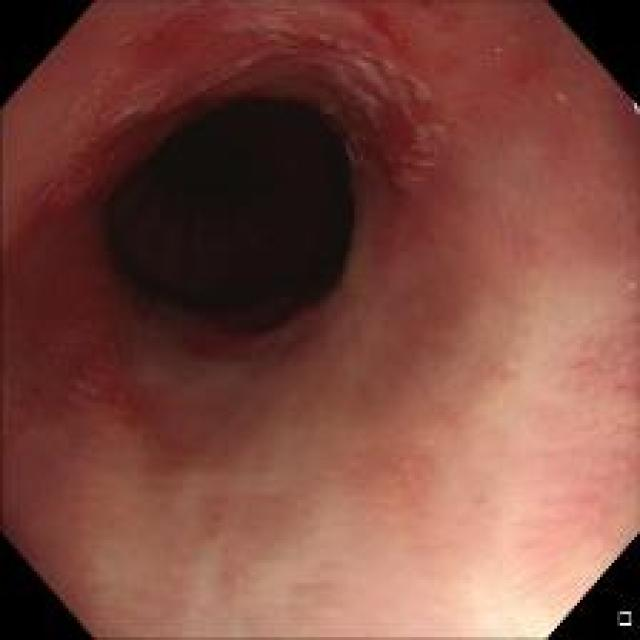color misalignment: (630, 100, 639, 118)
contrast: (84, 88, 375, 358)
